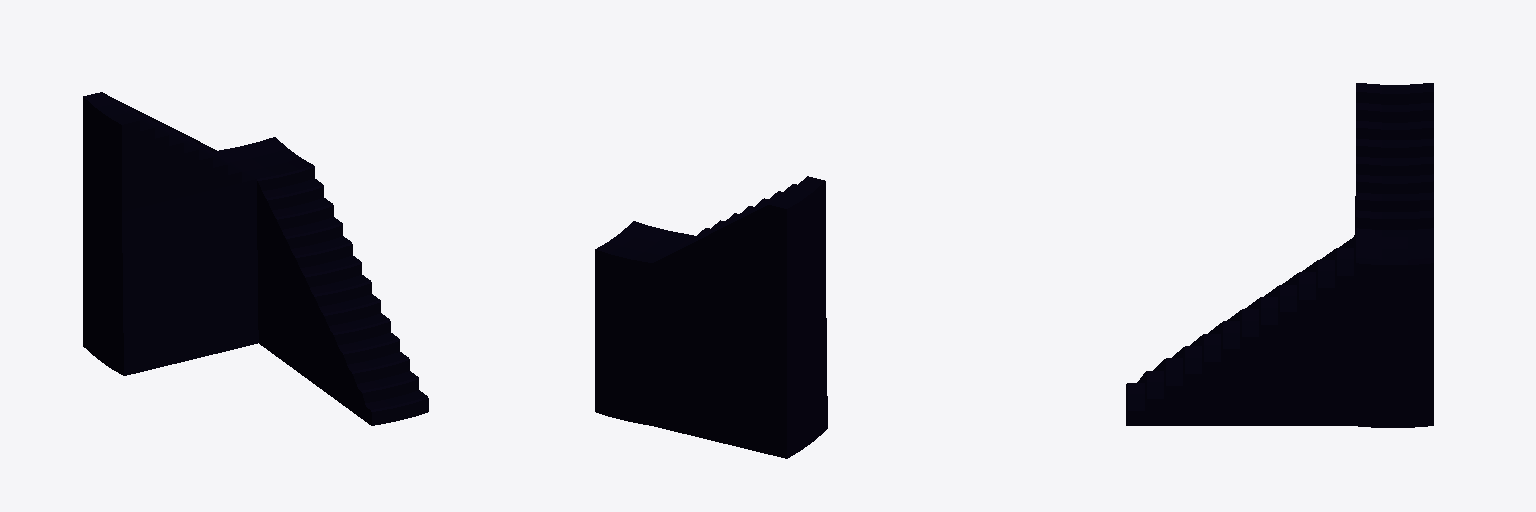
Rendered from stairs01.1.obj.
The picture shows the model from 3 angles: view 1: azimuth 30°, elevation 25°; view 2: azimuth 150°, elevation 25°; view 3: azimuth 270°, elevation 25°; orthographic projection.
Parts seen in each view (by area): view 1: Cube; view 2: Cube; view 3: Cube.
Part boxes in pixels (bbox=[...]): Cube: bbox=[83, 92, 428, 425]; Cube: bbox=[595, 176, 827, 458]; Cube: bbox=[1126, 83, 1433, 427].
Bounding box in the file's own units: 6.11 × 7.7 × 8.48.